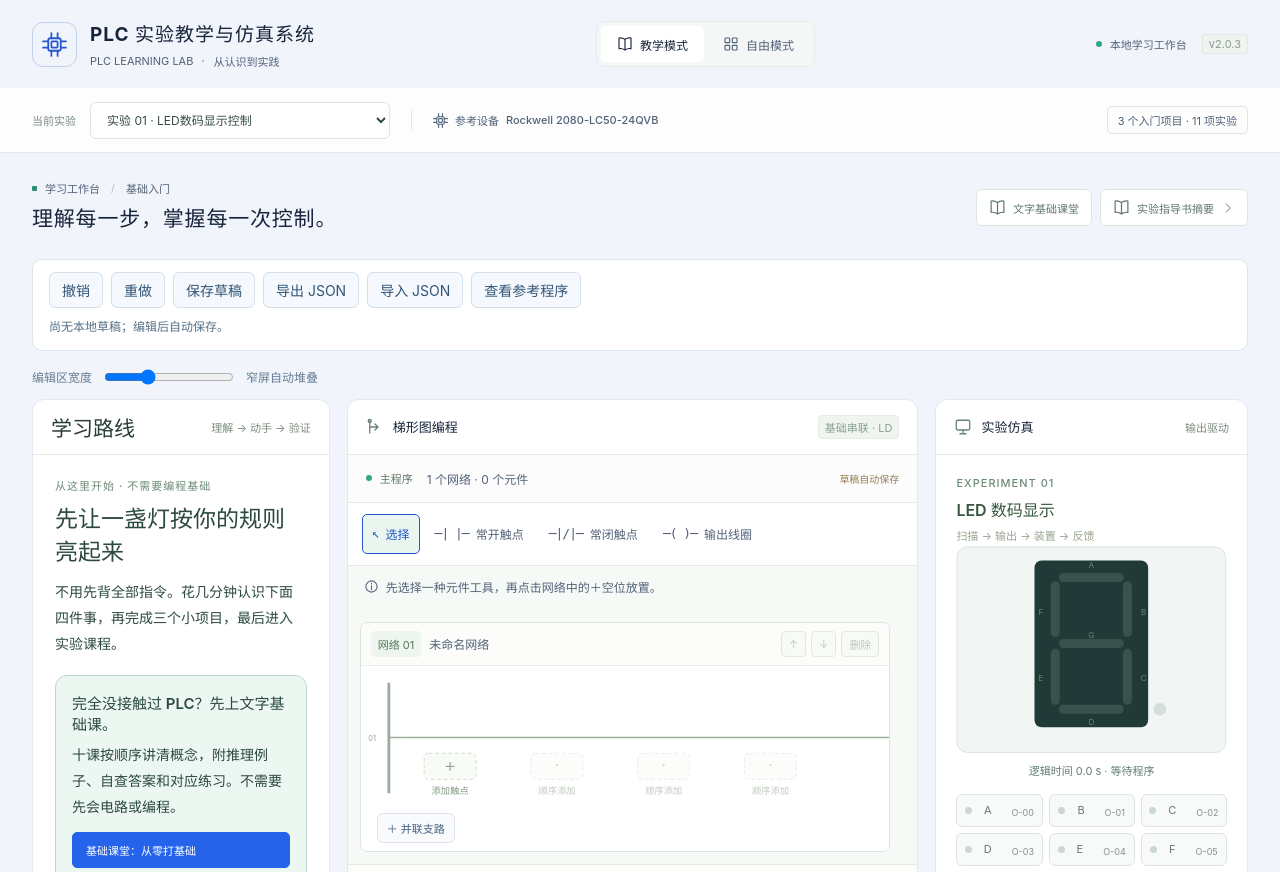
Test case: 完整基础课堂可导航、展开自查，关闭重开恢复位置，阅读不自动判为掌握
Click the button "基础课堂：从零打基础". click: x=181, y=850
box: [72, 832, 290, 868]
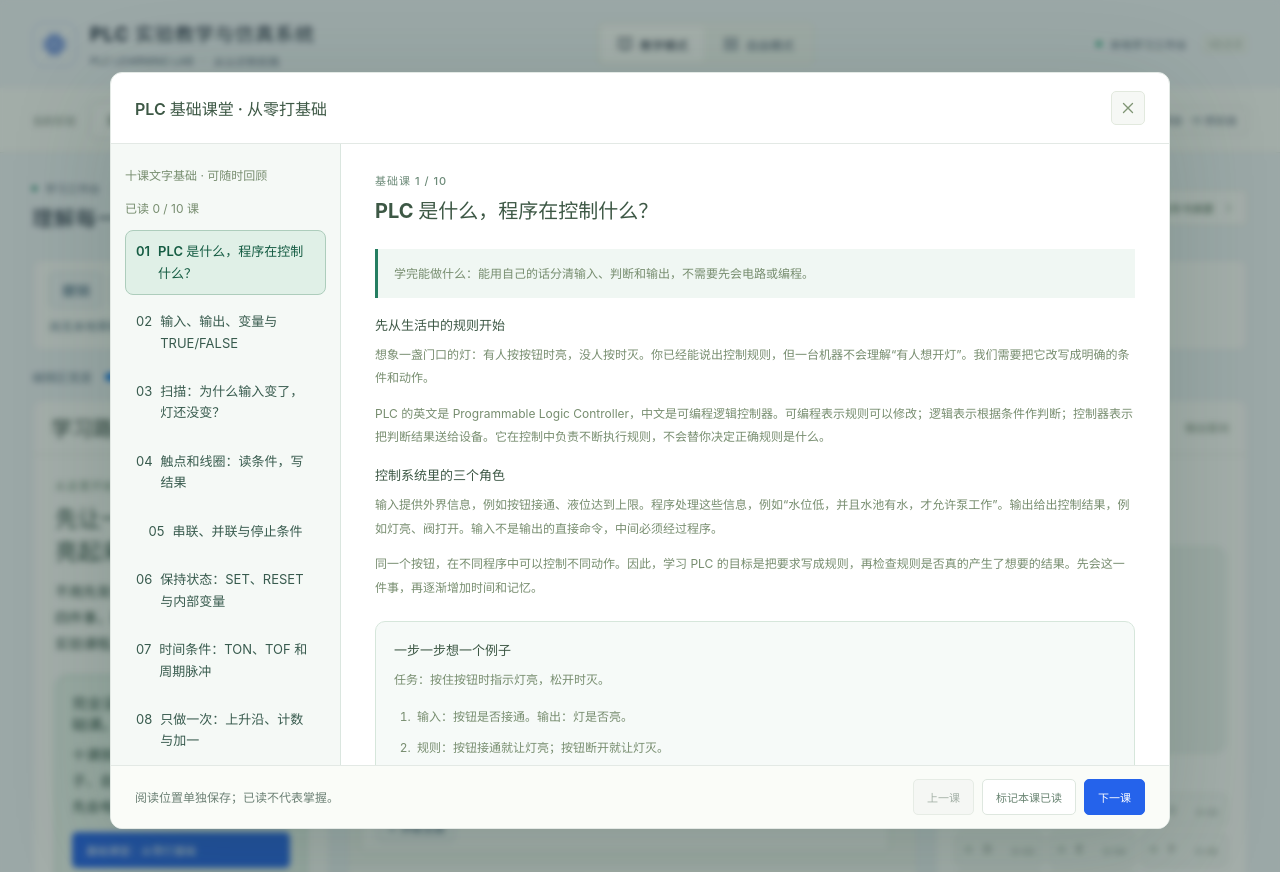
Expected: the heading "PLC 是什么，程序在控制什么？" is shown, [375, 198, 658, 222]
Click the button "下一课". click: x=1114, y=796
box: [1084, 778, 1145, 814]
(page scrolled)
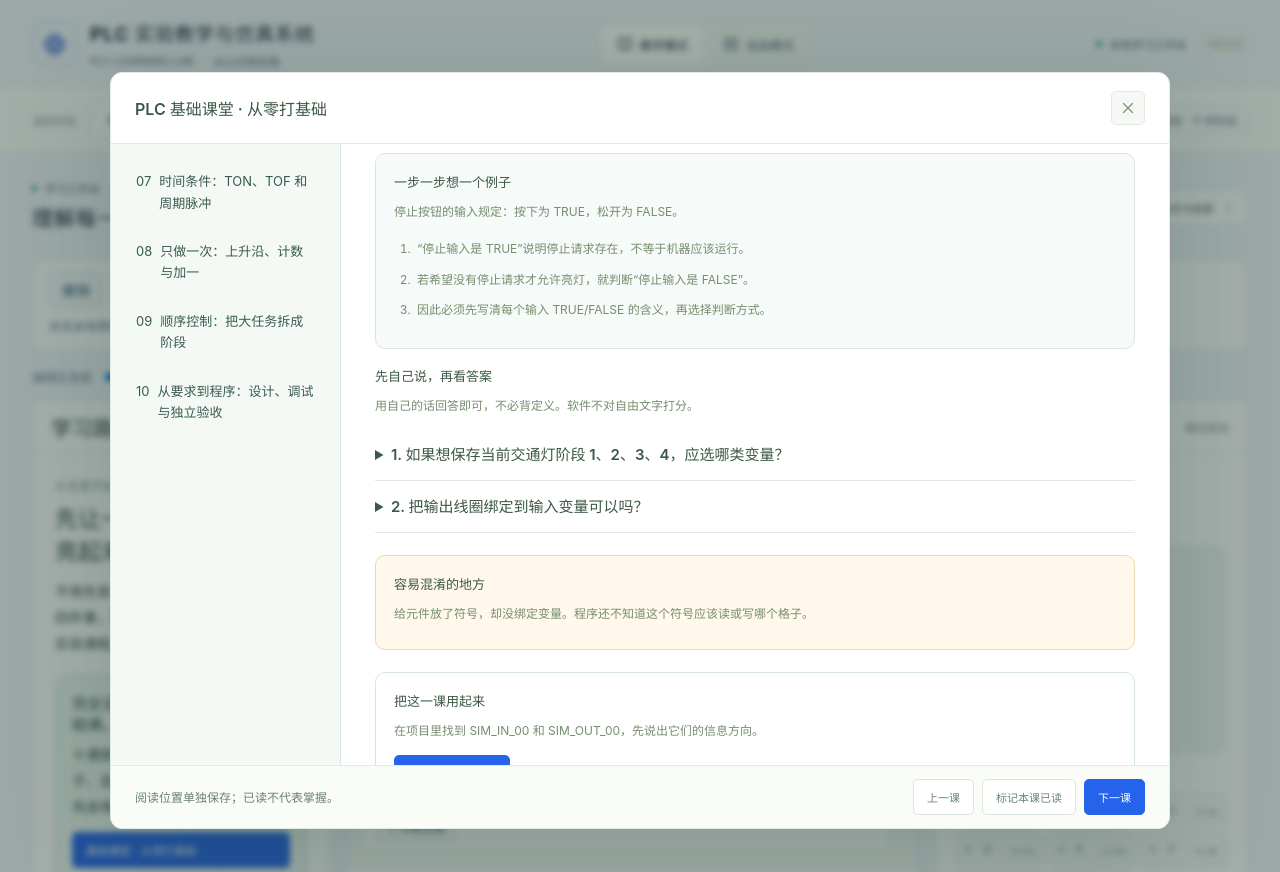
Click the heading "1. 如果想保存当前交通灯阶段 1、2、3、4，应选哪类变量？". click: x=590, y=454
box: [391, 445, 790, 464]
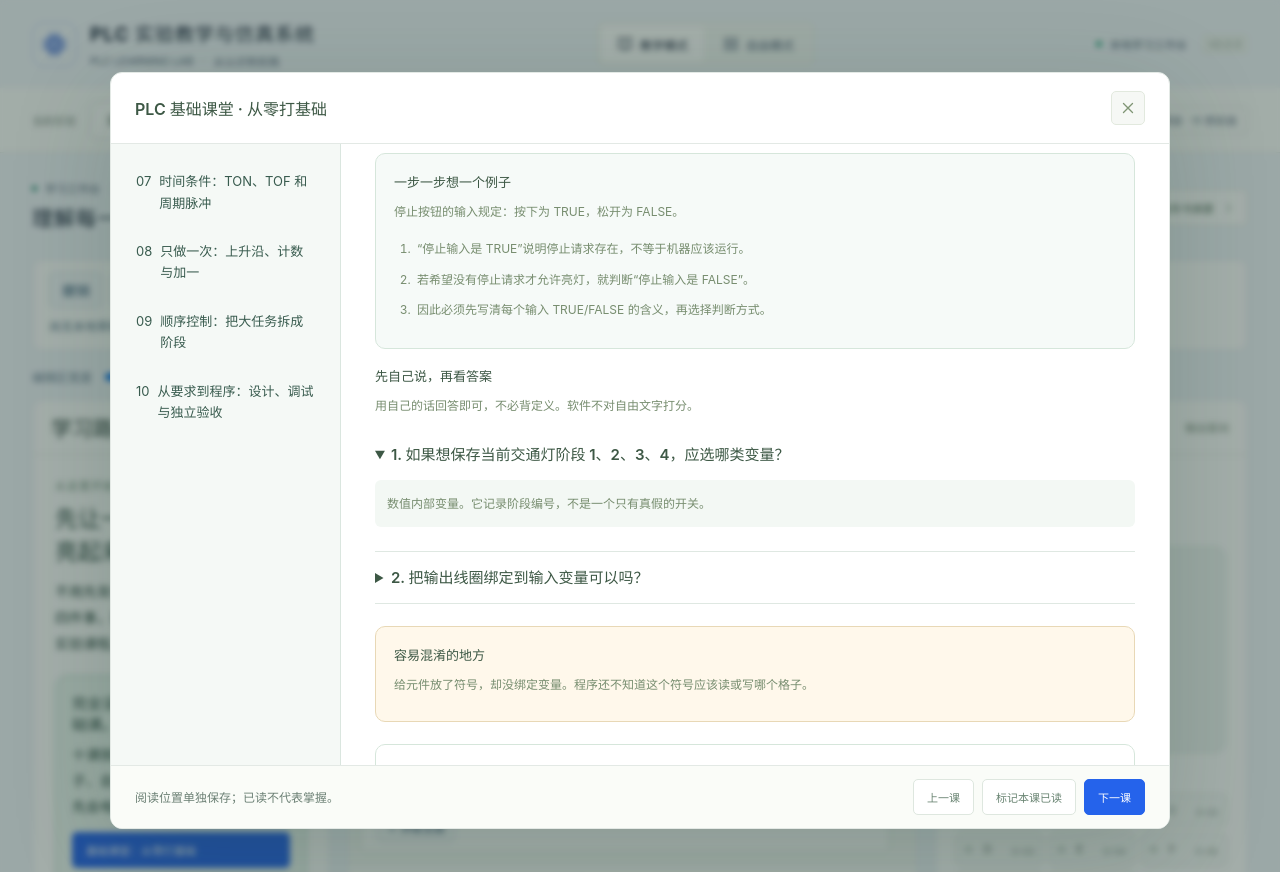
Expected: the text "1. 如果想保存当前交通灯阶段 1、2、3、4，应选哪类变量？" has attribute open, [375, 429, 1135, 552]
Click the button "标记本课已读". click: x=1029, y=796
box: [982, 778, 1076, 814]
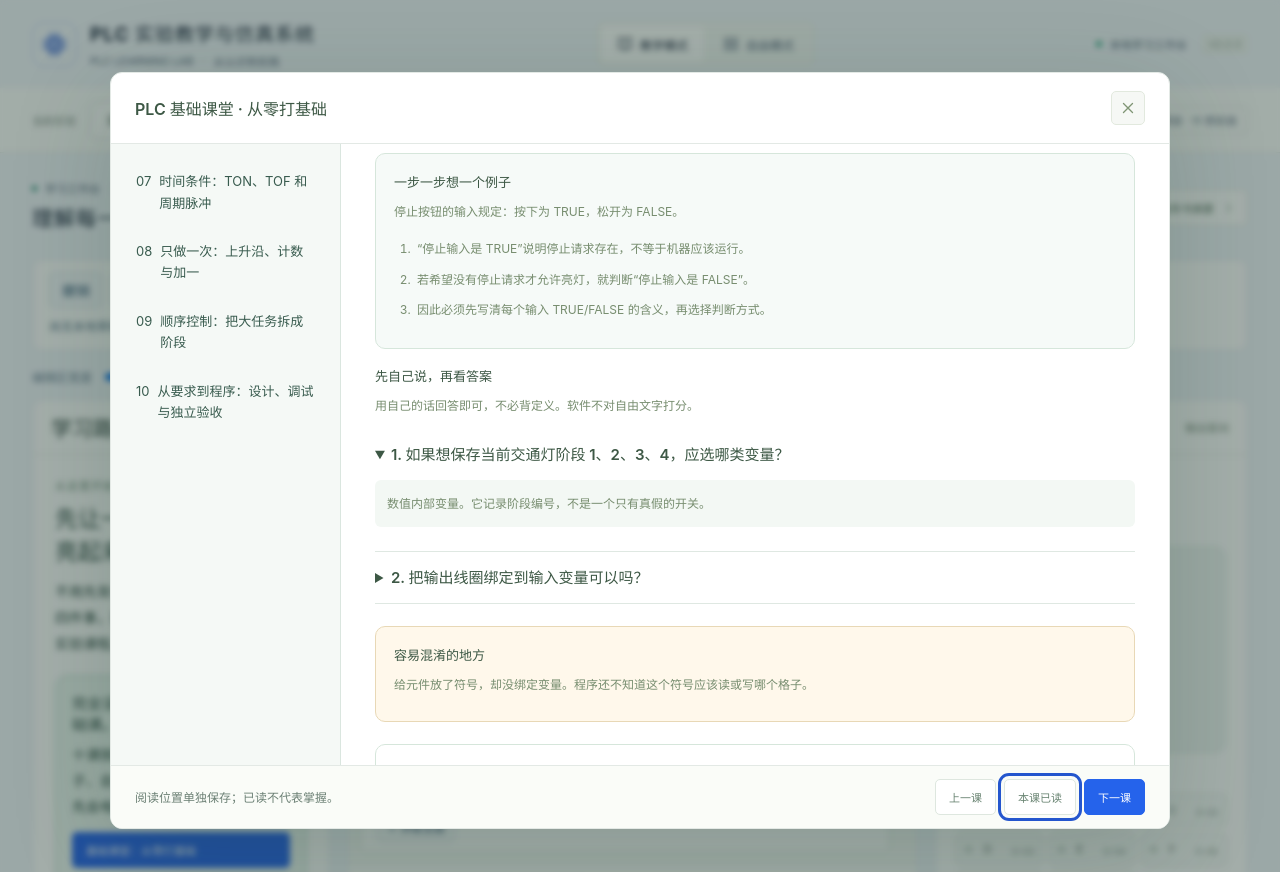
Click the button named "关闭弹窗". click: x=1128, y=108
box: [1111, 90, 1145, 124]
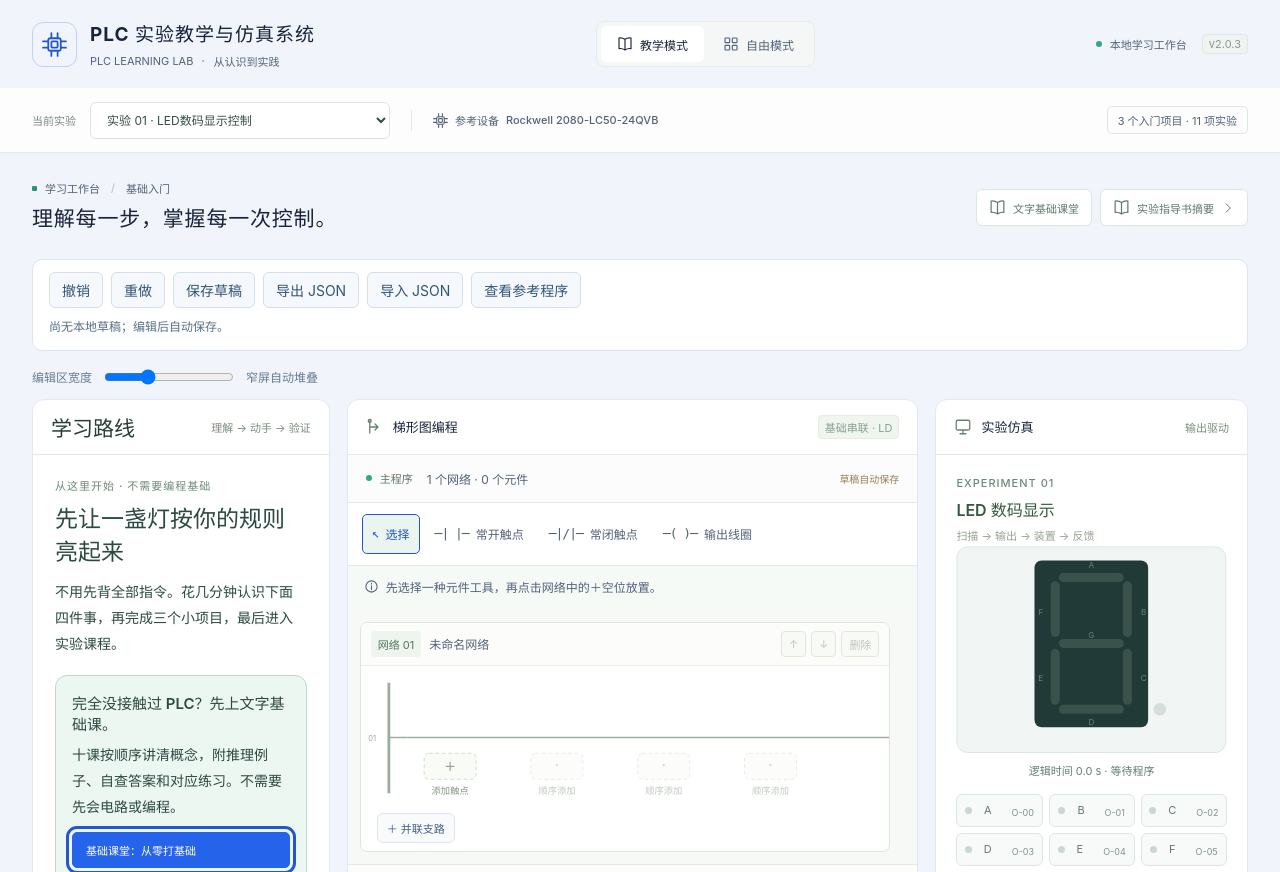
Click the button "文字基础课堂". click: x=1034, y=208
box: [976, 189, 1092, 226]
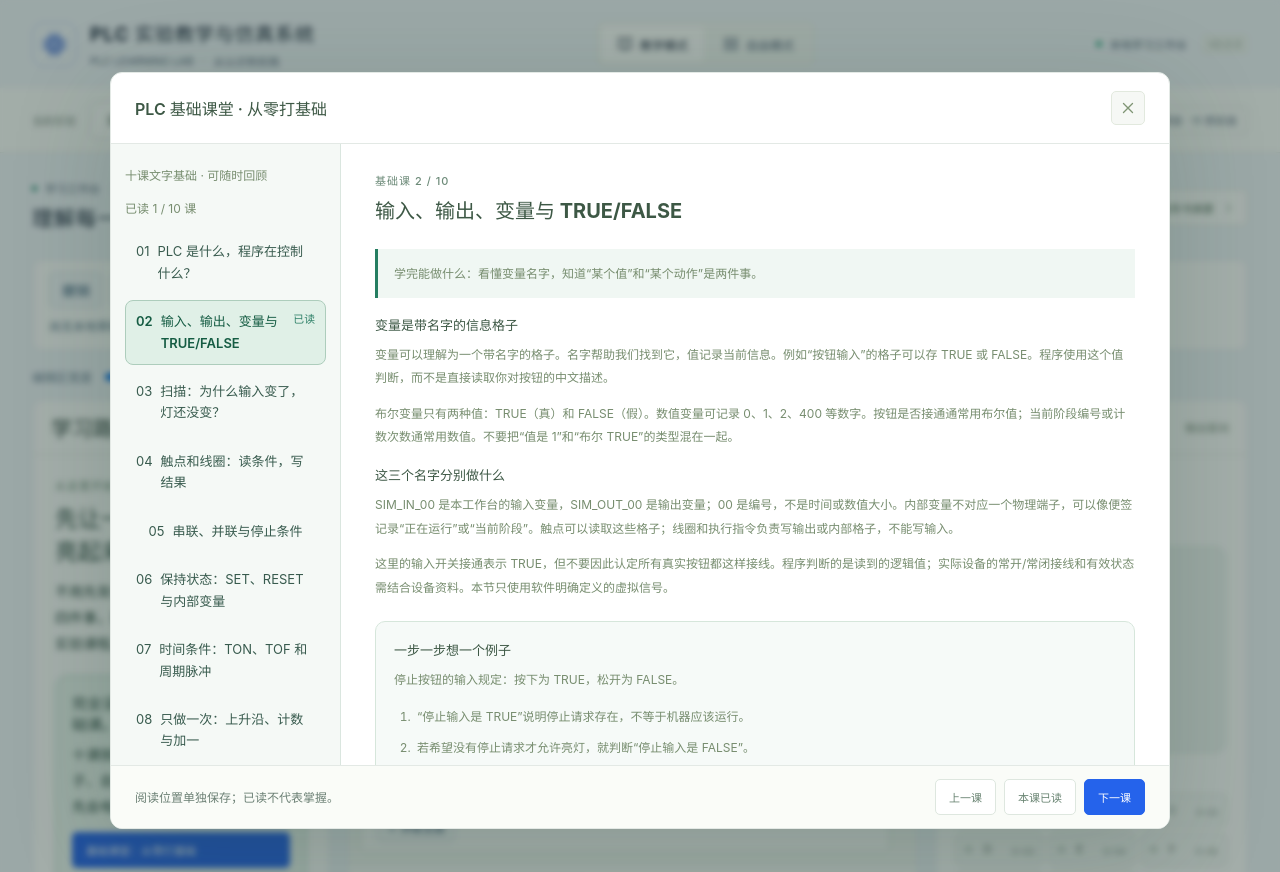
Expected: the heading "输入、输出、变量与 TRUE/FALSE" is shown, [375, 198, 682, 222]
Expected: the text "已读 1 / 10 课" is shown, [125, 201, 196, 216]
Expected: the message shows "已读不代表掌握", [135, 790, 339, 805]
